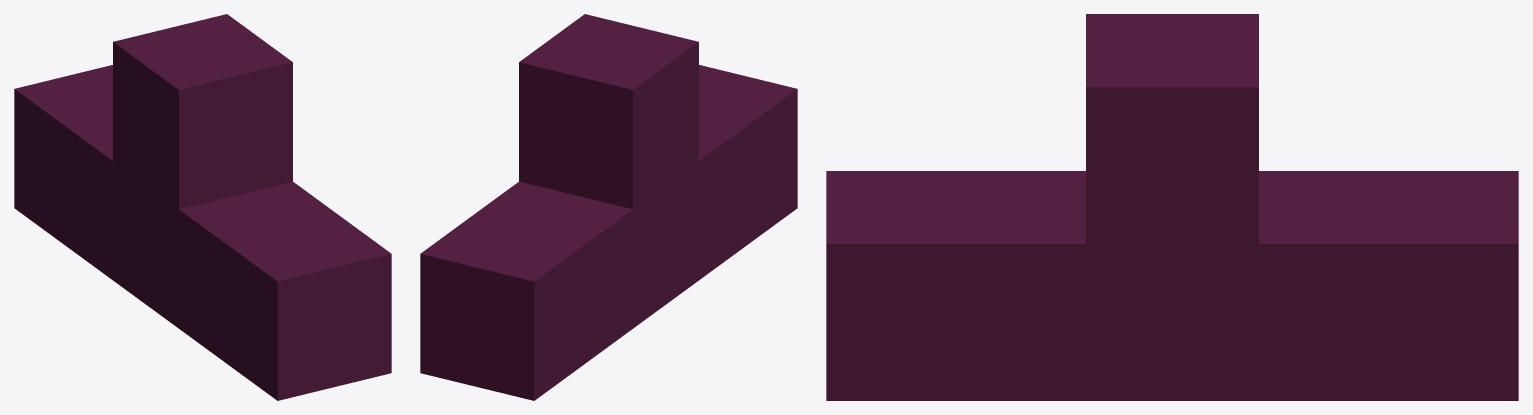
File: purpleish.fbx
3 renders of one model, left to right at view 1: azimuth 30°, elevation 25°; view 2: azimuth 150°, elevation 25°; view 3: azimuth 270°, elevation 25°, orthographic. The views are drawn at different scales.
Parts seen in each view (by area): view 1: cube, cube.000; view 2: cube, cube.000; view 3: cube, cube.000.
Part boxes in pixels (<box>): cube: <box>14,65,391,400</box>; cube.000: <box>113,14,292,209</box>; cube: <box>420,65,797,400</box>; cube.000: <box>519,14,698,209</box>; cube: <box>826,171,1518,400</box>; cube.000: <box>1086,14,1258,243</box>.
Bounding box in the file's own units: 12.5 × 25 × 50.
Materials: 1 (1 with a texture image).
